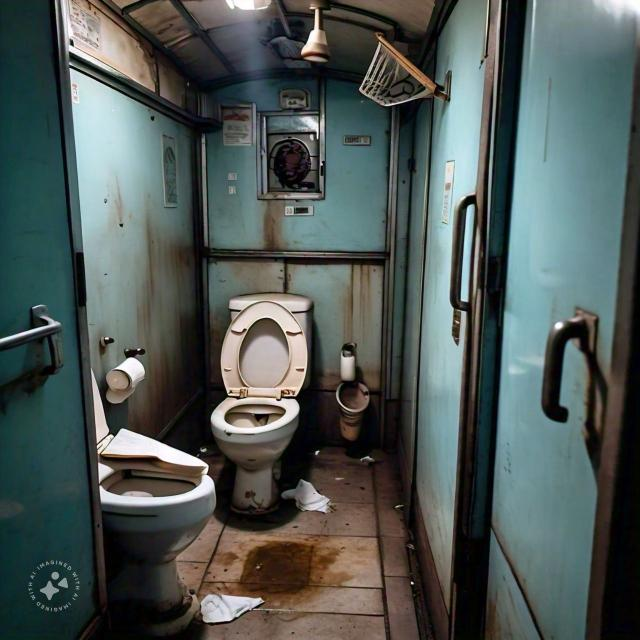Toilet: (90, 337, 341, 634), (168, 283, 402, 505)
